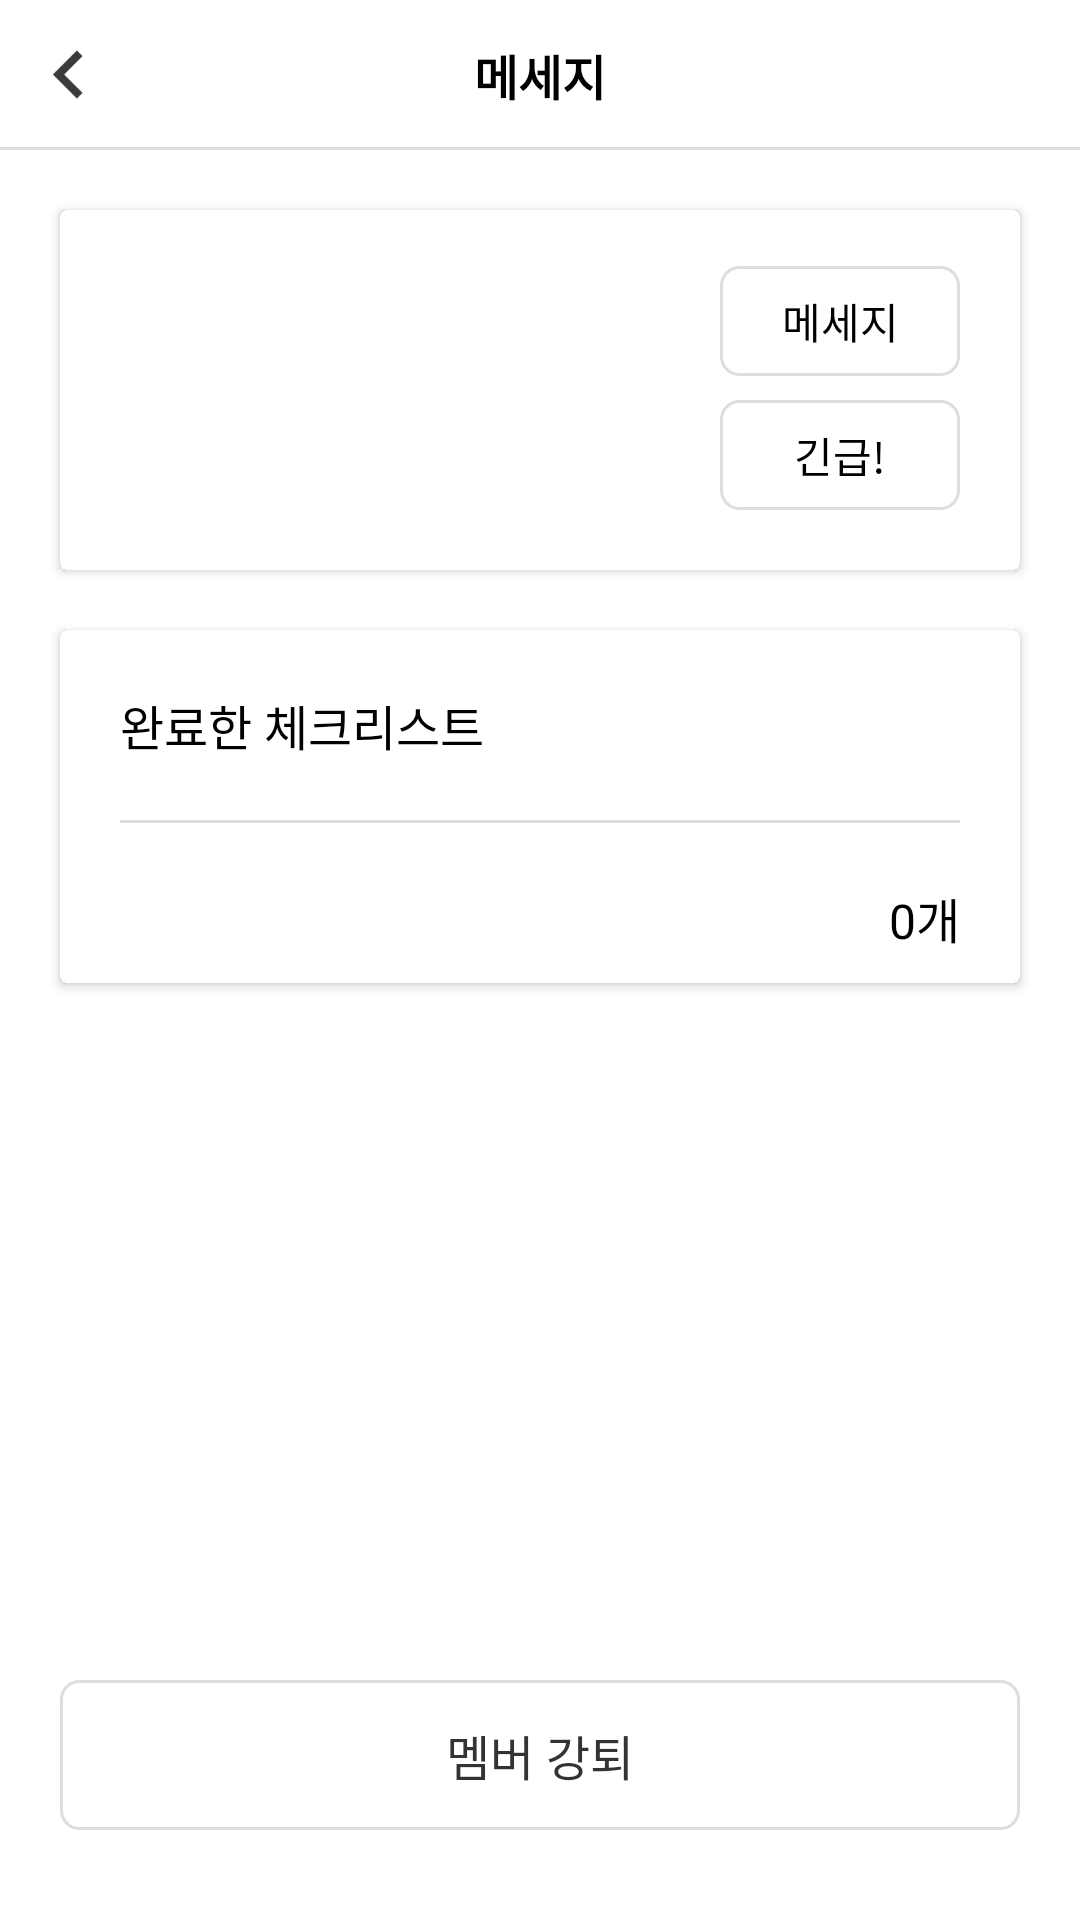

Icons on this 1080*1920 Android screen, each with the point to tap as [x,y]:
arrow: [68,74]
